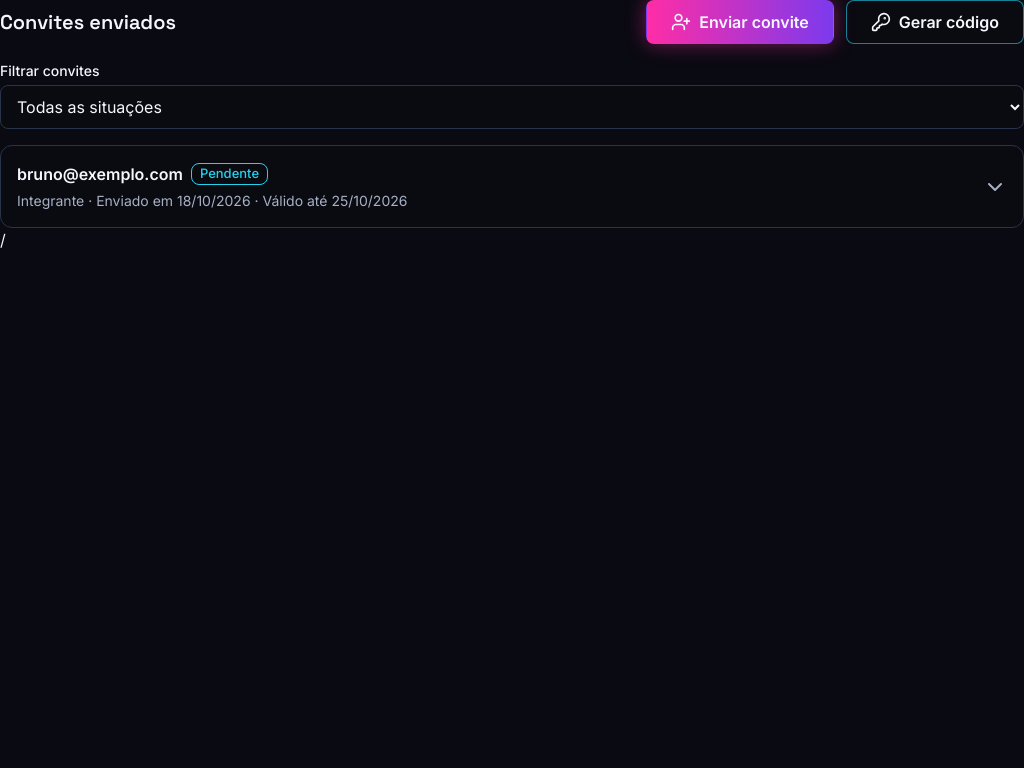
Test case: SentInvitesPanel (FAM-005, D-FAM-009) › Enviar convite (modal) › abre o modal com e-mail e papel
This screenshot has width=1024, height=768.
Expected: the text "bruno@exemplo.com" is shown, [17,164,183,184]
Click the button "Enviar convite": (740, 22) [646,0,834,44]
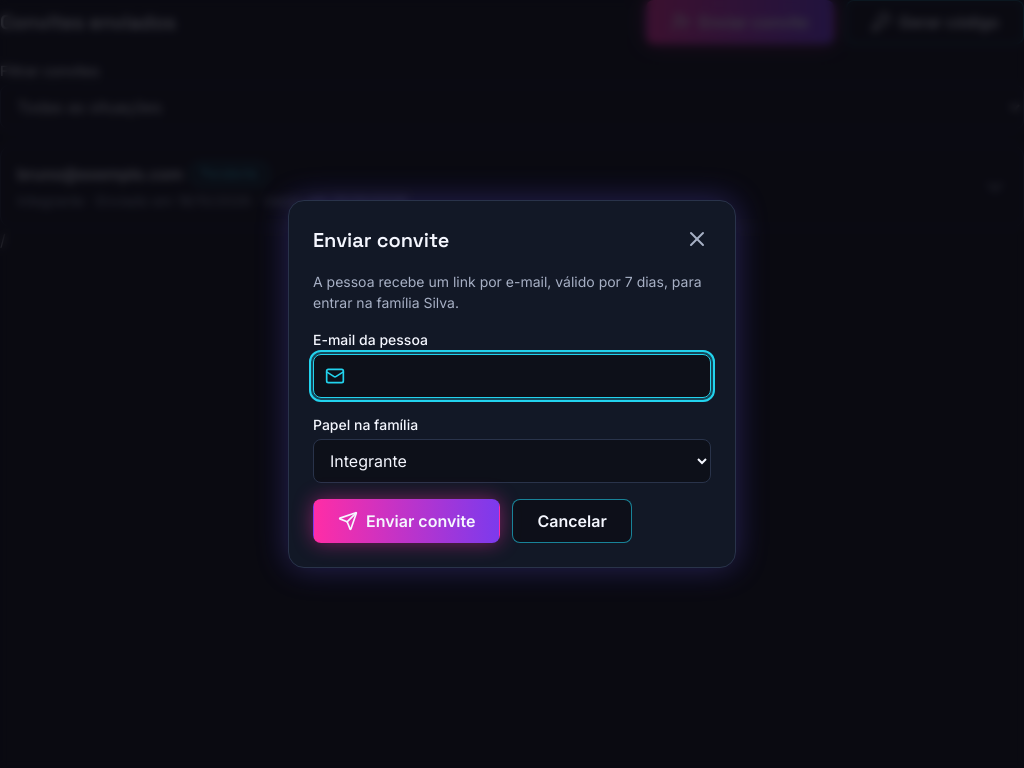
Expected: the field labelled "E-mail da pessoa" is shown, [313,354,711,398]
Expected: the dropdown labelled "Papel na família" is shown, [313,439,711,483]
